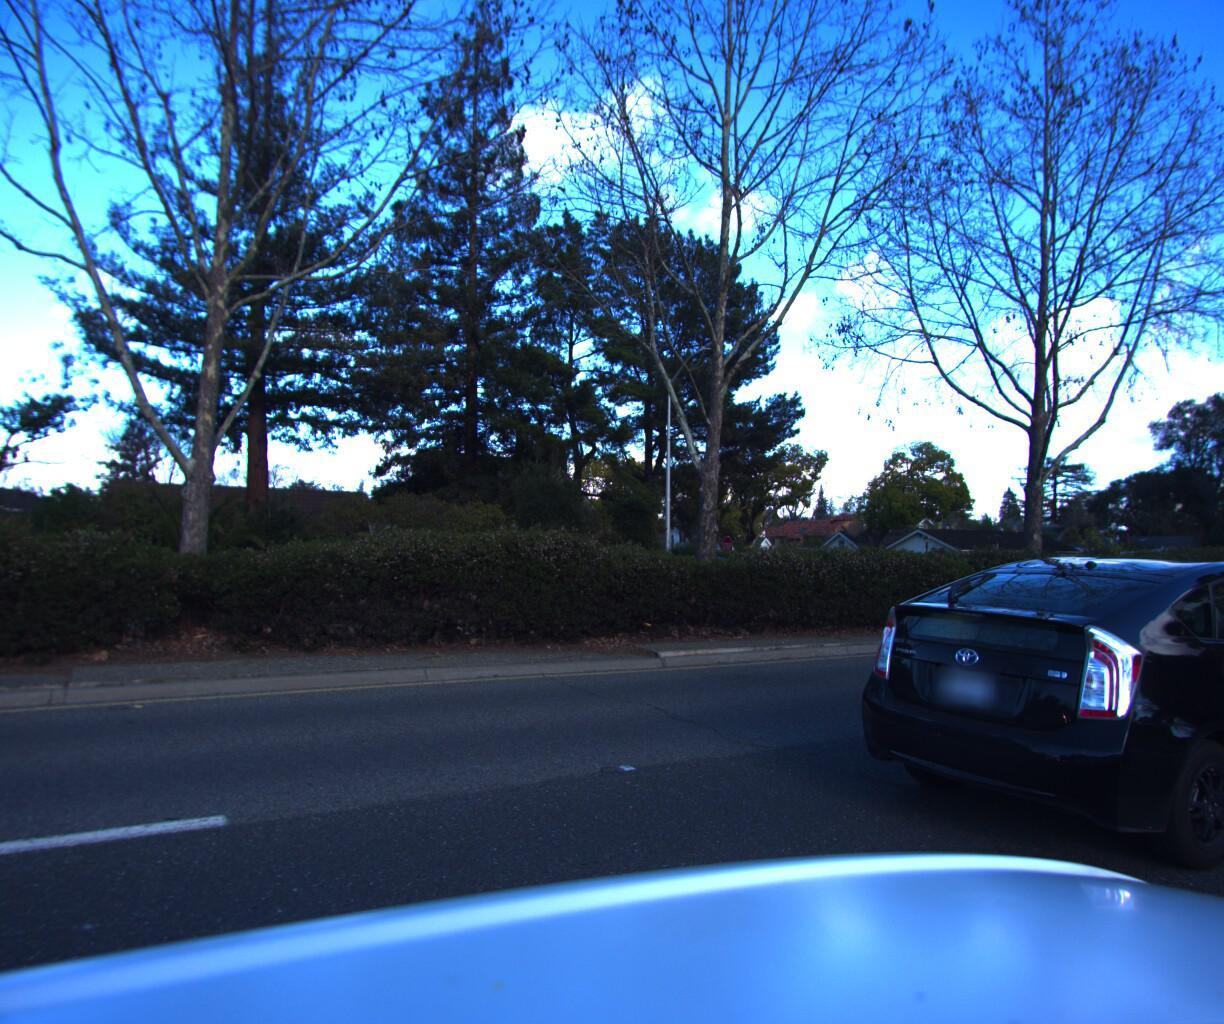car: (828, 548, 1224, 919)
